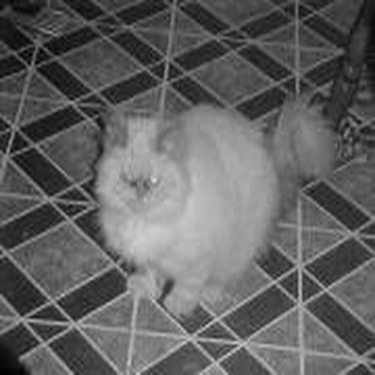cat: (74, 98, 340, 302)
